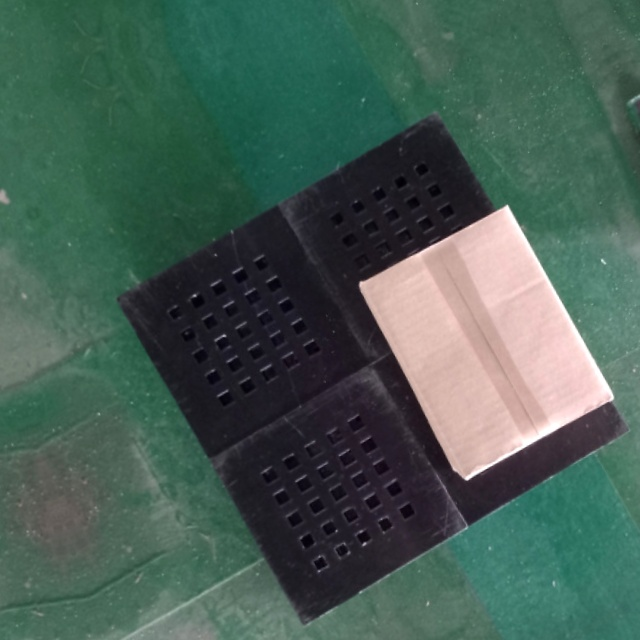box: (349, 198, 620, 490)
pallet: (106, 101, 638, 633)
